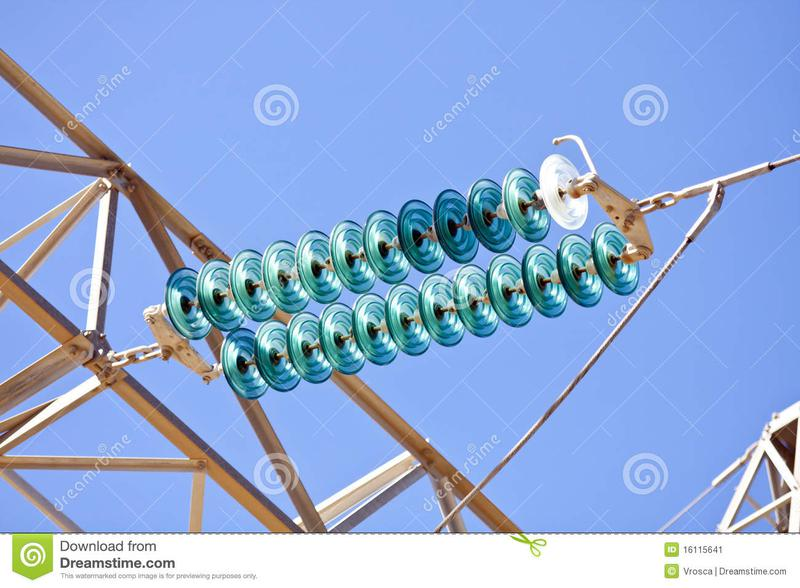isolator: (162, 152, 641, 401)
